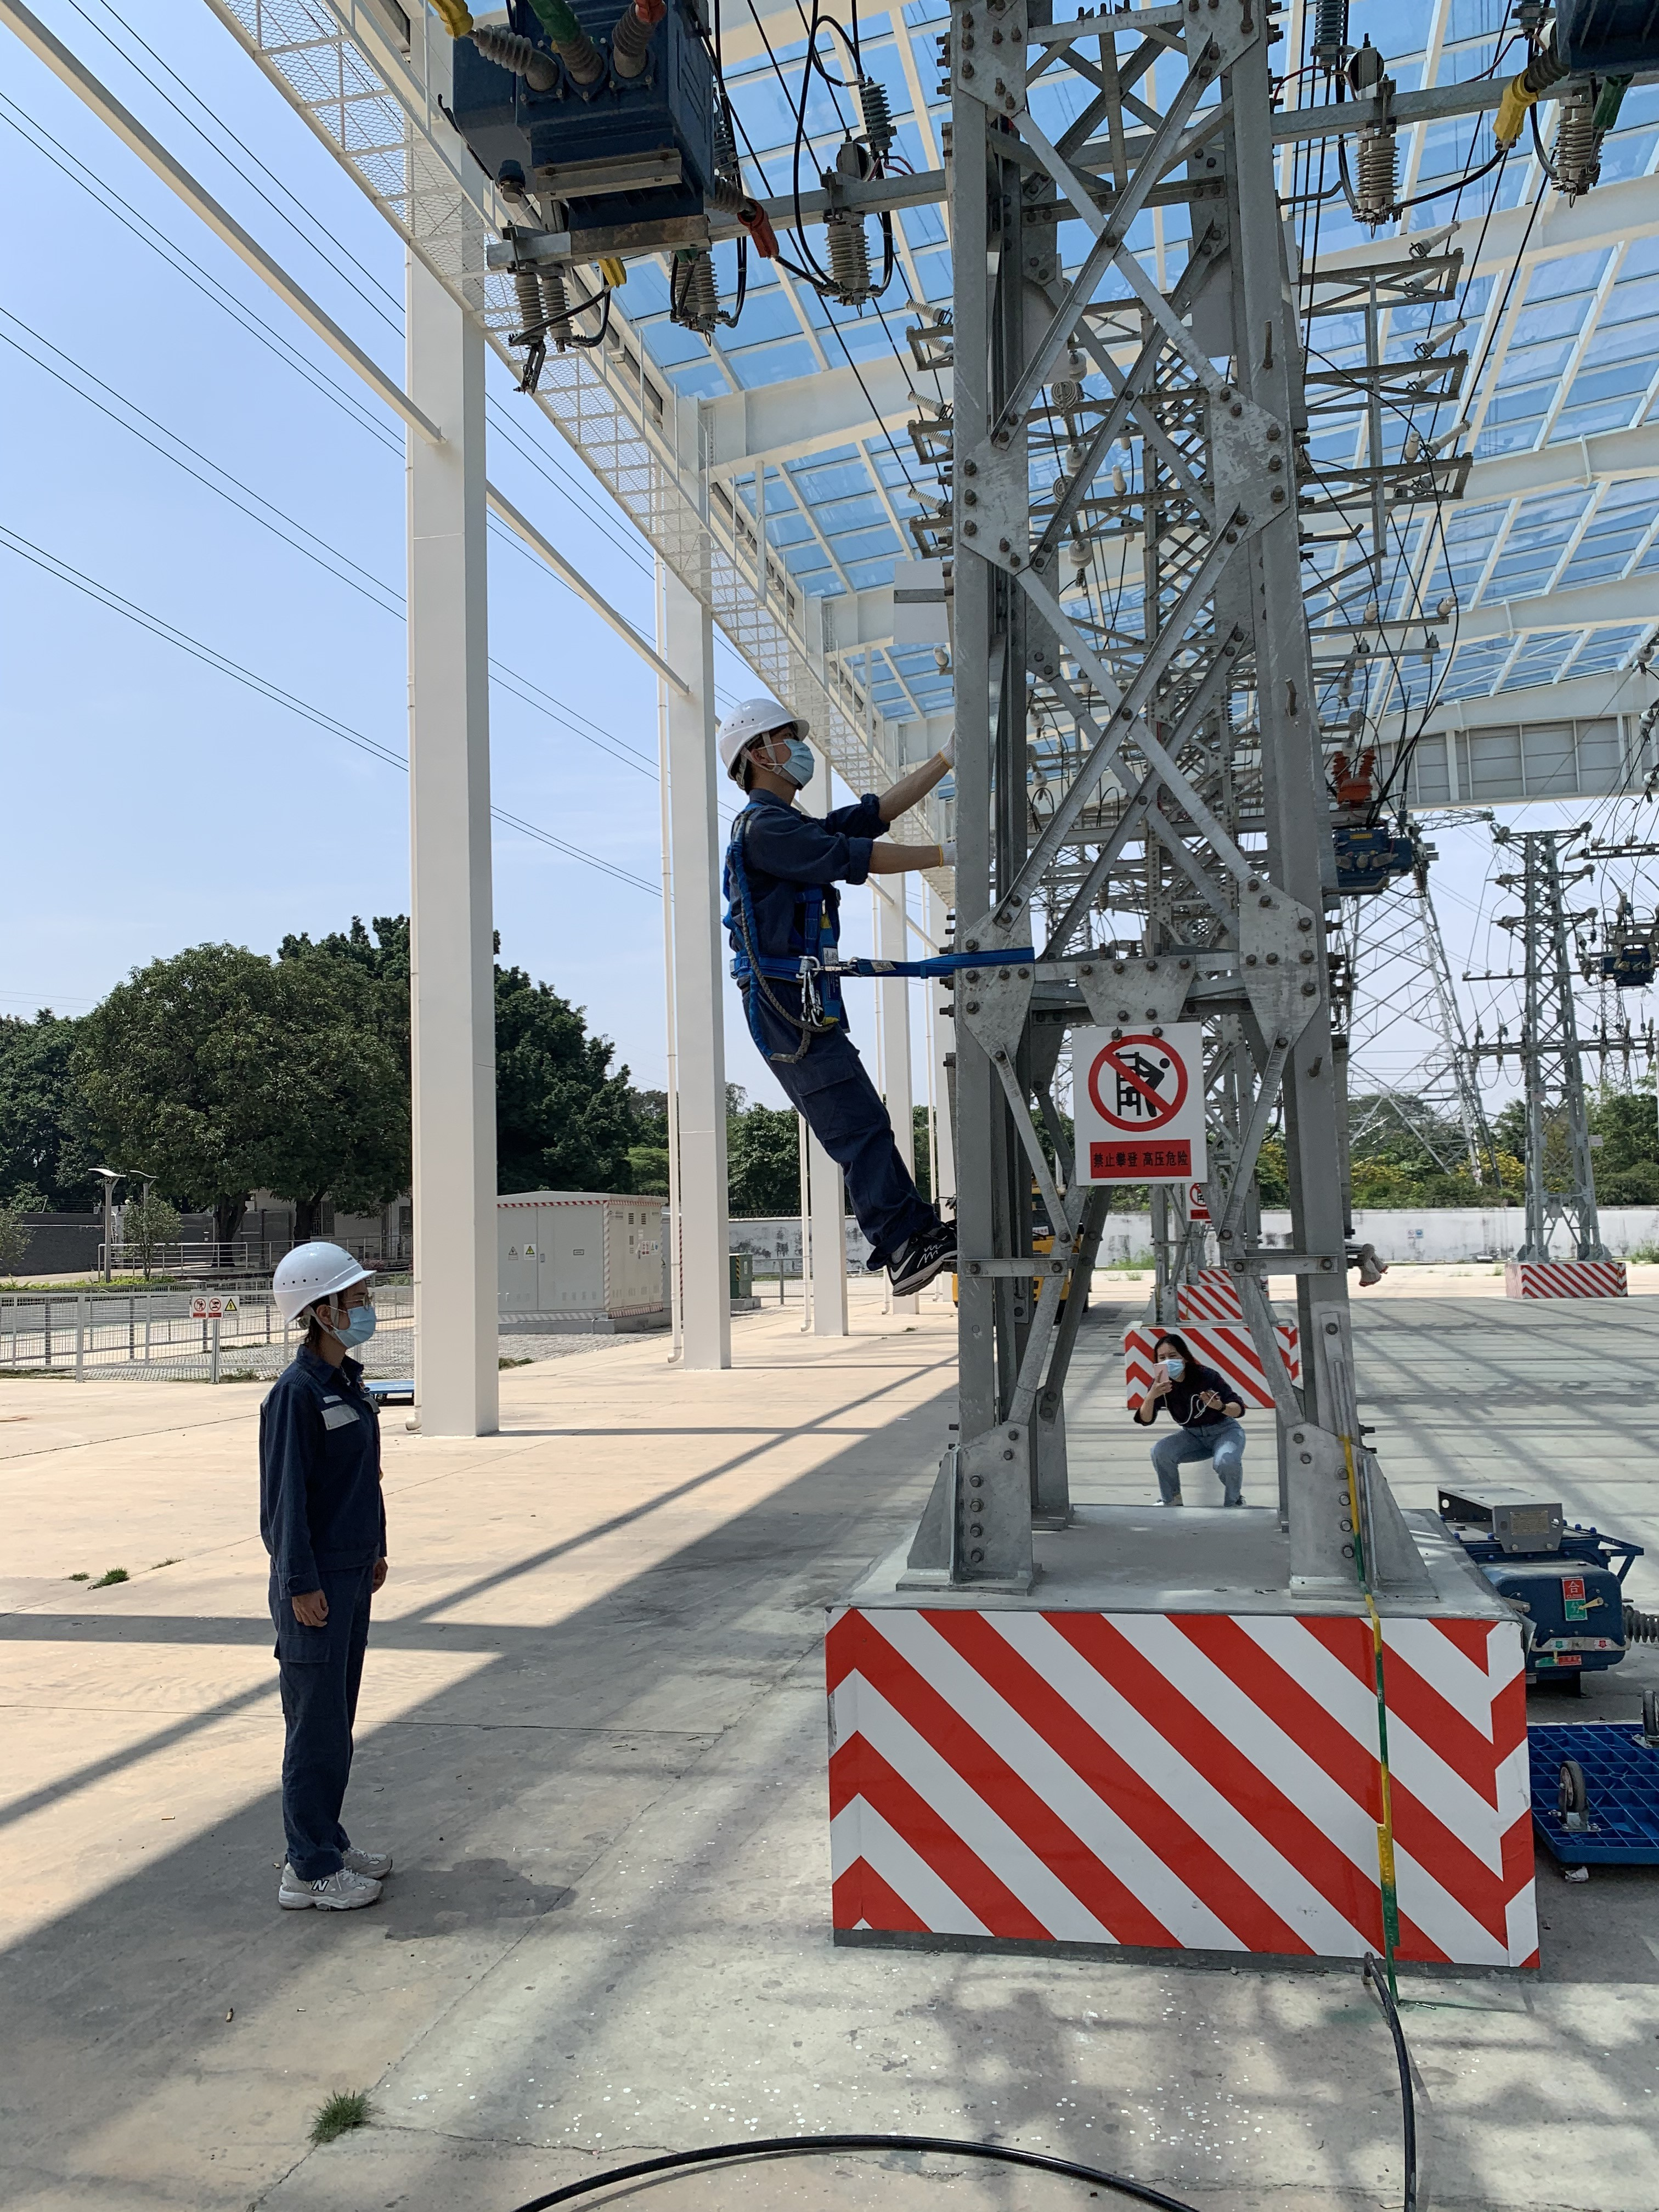downsuit: (732, 989, 938, 1244), (267, 1578, 373, 1871)
upsuit: (254, 1360, 397, 1571), (708, 798, 887, 953)
wrongtop: (868, 742, 958, 894)
